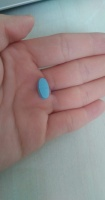Majezik: (37, 76, 50, 101)
